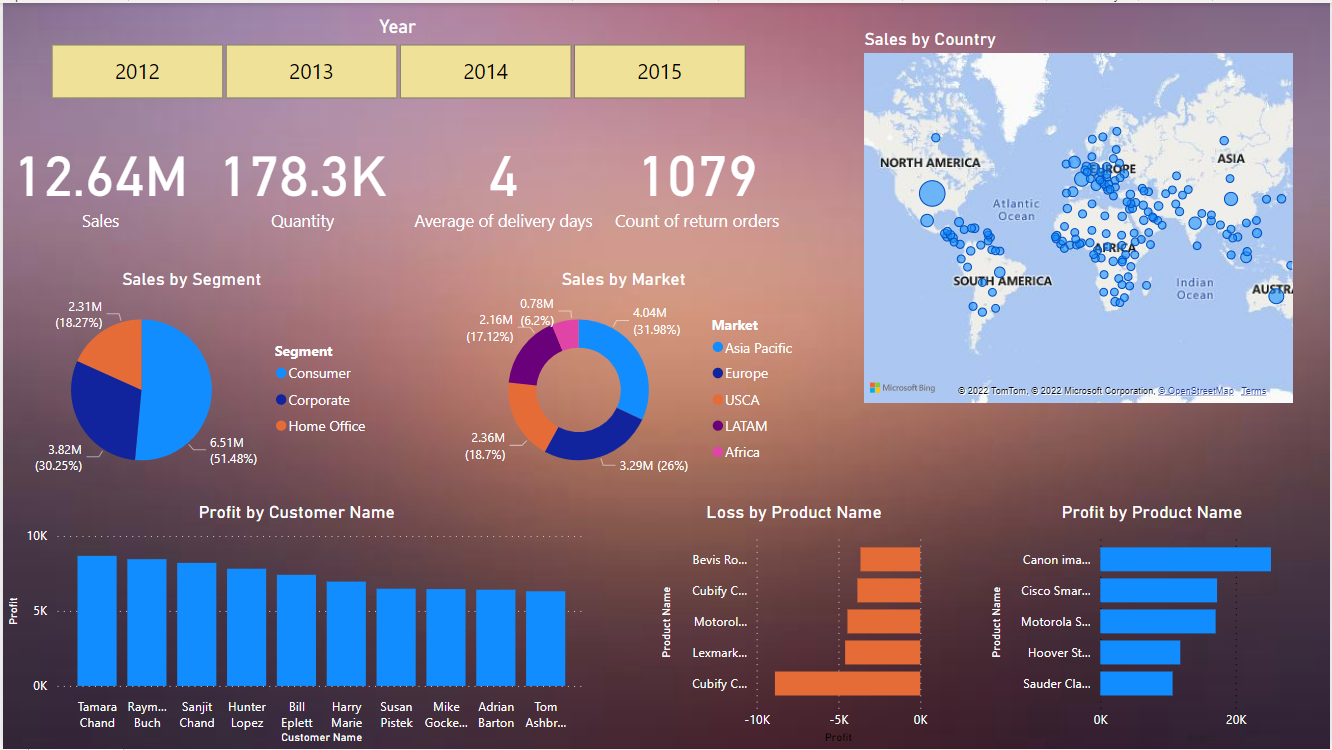

The page's visual inventory and layout, read from the dashboard file:
{"tool":"powerbi","page":{"name":"Page 1","canvas":[1280,720],"ordinal":0},"visuals":[{"type":"card","fields":{"Values":["Orders.Sales"]},"box":[0,111.2,188.2,120.9],"z":0},{"type":"card","fields":{"Values":["Orders.Quantity"]},"box":[188.2,111.2,201.9,120.9],"z":1000},{"type":"slicer","title":"Year","fields":{"Values":["Orders.year"]},"box":[20.5,12.1,720,86.8],"z":2000},{"type":"card","fields":{"Values":["Orders.delivery days"]},"box":[389.5,111,186.9,120.6],"z":3000},{"type":"card","fields":{"Values":["Returns.return orders"]},"box":[576.5,111,186.9,120.6],"z":4000},{"type":"barChart","fields":{"Y":["Orders.Profit"],"Category":["Orders.Product Name"]},"box":[947.4,481.6,321.5,238.4],"z":5000},{"type":"barChart","title":"Loss by Product Name","fields":{"Category":["Orders.Product Name"],"Y":["Orders.Profit"]},"box":[629.5,481.6,267.7,238.4],"z":6000},{"type":"pieChart","fields":{"Category":["Orders.Segment"],"Y":["Orders.Sales"]},"box":[0,255.7,364.2,215.9],"z":7000},{"type":"donutChart","fields":{"Y":["Orders.Sales"],"Category":["Orders.Market"]},"box":[422.1,255.7,353.4,215.9],"z":8000},{"type":"columnChart","fields":{"Category":["Orders.Customer Name"],"Y":["Orders.Profit"]},"box":[0,481.6,567.2,238.4],"z":9000},{"type":"map","fields":{"Category":["Orders.Country"],"Size":["Orders.Sales"]},"box":[826.3,24.4,423,366.7],"z":10000}]}

Visuals, with their boxes in screenshot pixels (x1, y1, x2, y2), scaled from the page's 1280x720 canvas onto the 1332x750 screenshot:
card - Orders.Sales: Rect(0, 116, 196, 242)
card - Orders.Quantity: Rect(196, 116, 406, 242)
"Year" slicer: Rect(21, 13, 771, 103)
card - Orders.delivery days: Rect(405, 116, 600, 241)
card - Returns.return orders: Rect(600, 116, 794, 241)
barChart - Orders.Profit x Orders.Product Name: Rect(986, 502, 1320, 749)
"Loss by Product Name" barChart: Rect(655, 502, 934, 749)
pieChart - Orders.Segment x Orders.Sales: Rect(0, 266, 379, 491)
donutChart - Orders.Sales x Orders.Market: Rect(439, 266, 807, 491)
columnChart - Orders.Customer Name x Orders.Profit: Rect(0, 502, 590, 749)
map - Orders.Country x Orders.Sales: Rect(860, 25, 1300, 407)
